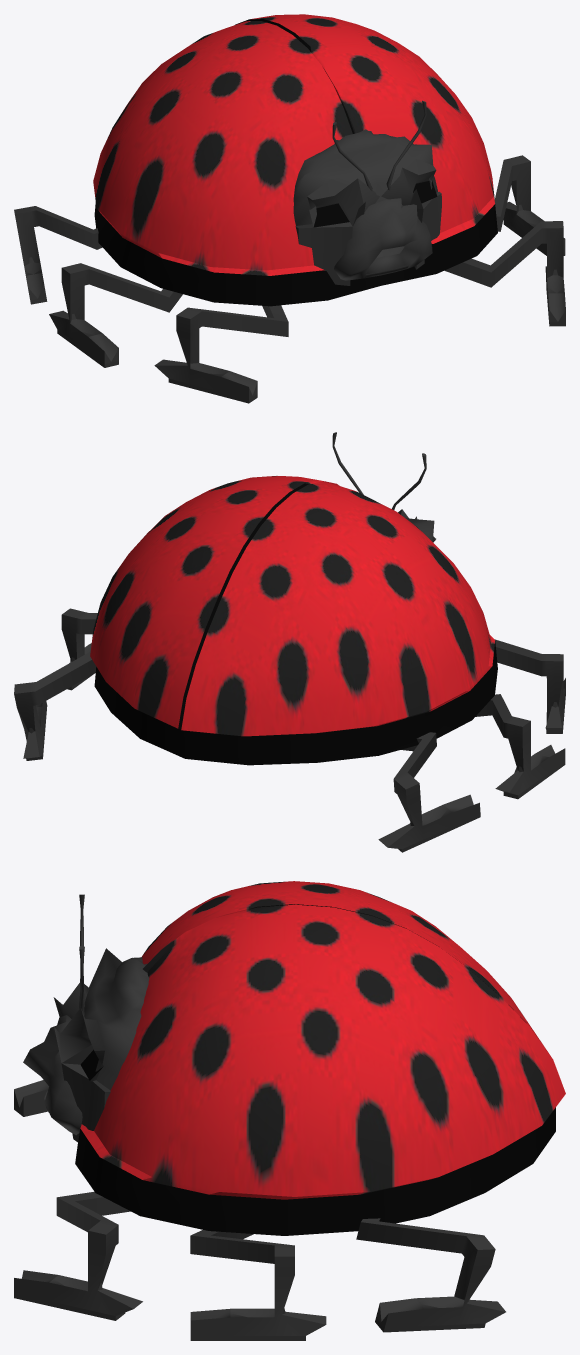
File: mariquita.obj
3 renders of one model, top to bottom at view 1: azimuth 30°, elevation 25°; view 2: azimuth 150°, elevation 25°; view 3: azimuth 270°, elevation 25°, orthographic. The views are drawn at different scales.
Visible parts, largest first — view 1: group1 pSphere3, polySurface1 group1, group1 pSphere5, group1 pSphere4, group1 pCylinder1; view 2: group1 pSphere3, polySurface1 group1; view 3: group1 pSphere3, polySurface1 group1, group1 pSphere5, group1 pSphere4.
Part boxes in pixels (box(x1,y1,x2,y2)): group1 pSphere3: box(93, 14, 497, 306); polySurface1 group1: box(14, 155, 565, 403); group1 pSphere5: box(293, 129, 441, 285); group1 pSphere4: box(334, 198, 432, 280); group1 pCylinder1: box(332, 100, 426, 191); group1 pSphere3: box(90, 476, 497, 765); polySurface1 group1: box(14, 608, 565, 852); group1 pSphere3: box(75, 881, 565, 1235); polySurface1 group1: box(14, 1080, 505, 1340); group1 pSphere5: box(53, 948, 149, 1142); group1 pSphere4: box(23, 1015, 82, 1135).
Bounding box in the file's own units: 7.63 × 4.07 × 6.49.
Materials: 4 (1 with a texture image).
